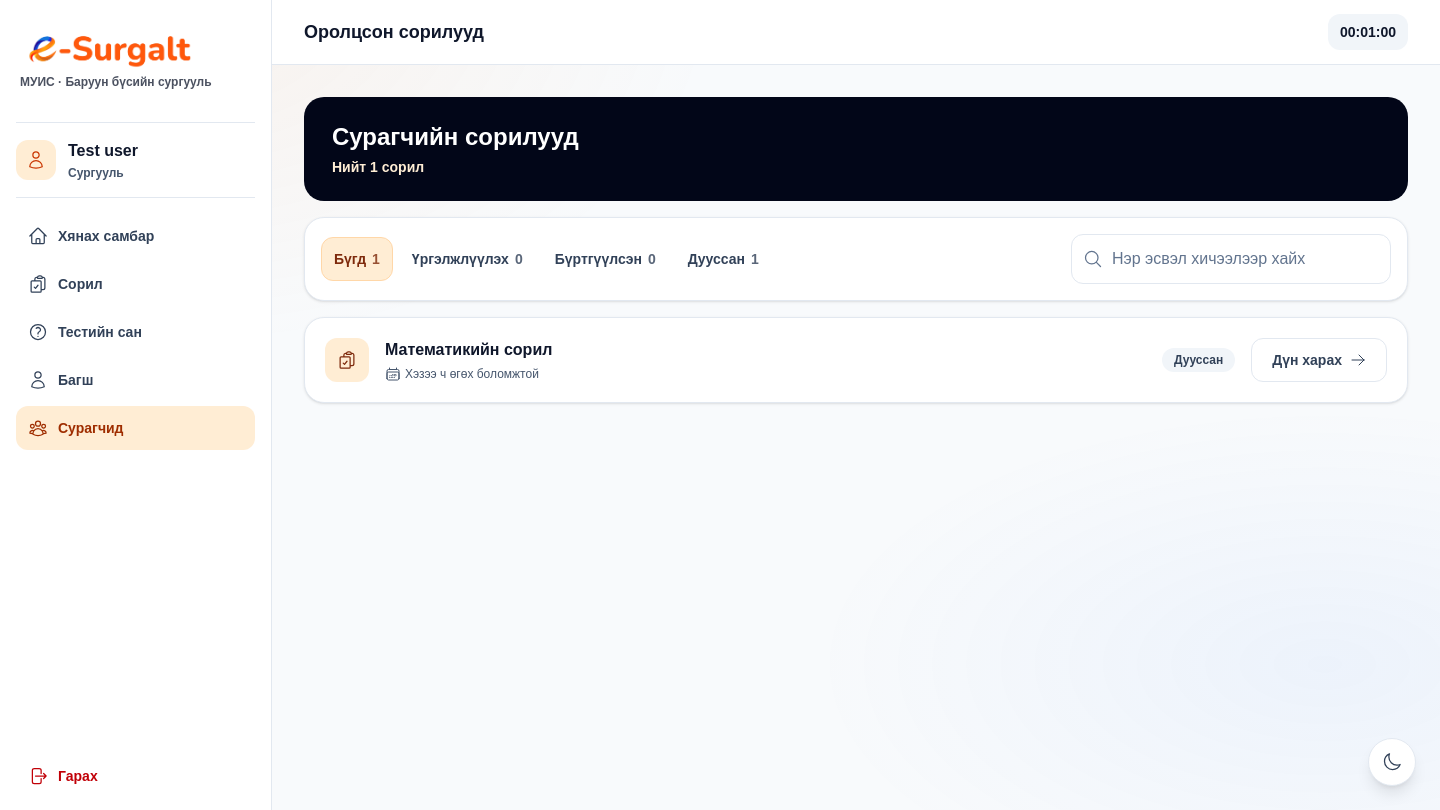
Test: opens a completed exam from the school student list
Click the button with aria-label "Сорилын үр дүн".
click(1319, 360)  # box [1251, 338, 1387, 382]
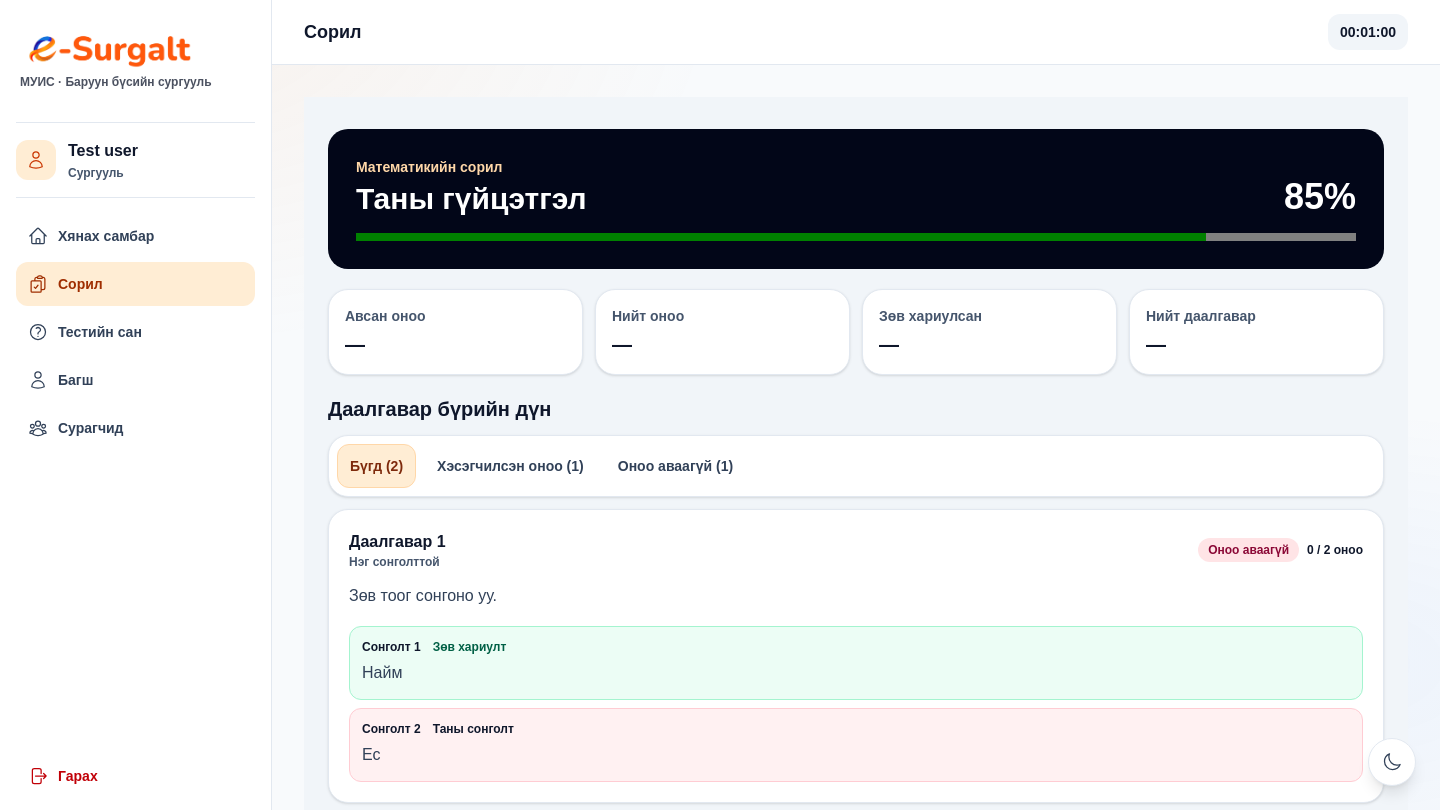
Expected: the heading "Таны гүйцэтгэл" is shown, [356, 181, 587, 217]
Expected: the text "85%" is shown, [1284, 177, 1356, 217]
Expected: the text "Зөв тоог сонгоно уу." is shown, [349, 587, 497, 604]
Click the button "Хэсэгчилсэн оноо (1)".
click(510, 466)  # box [424, 444, 597, 488]
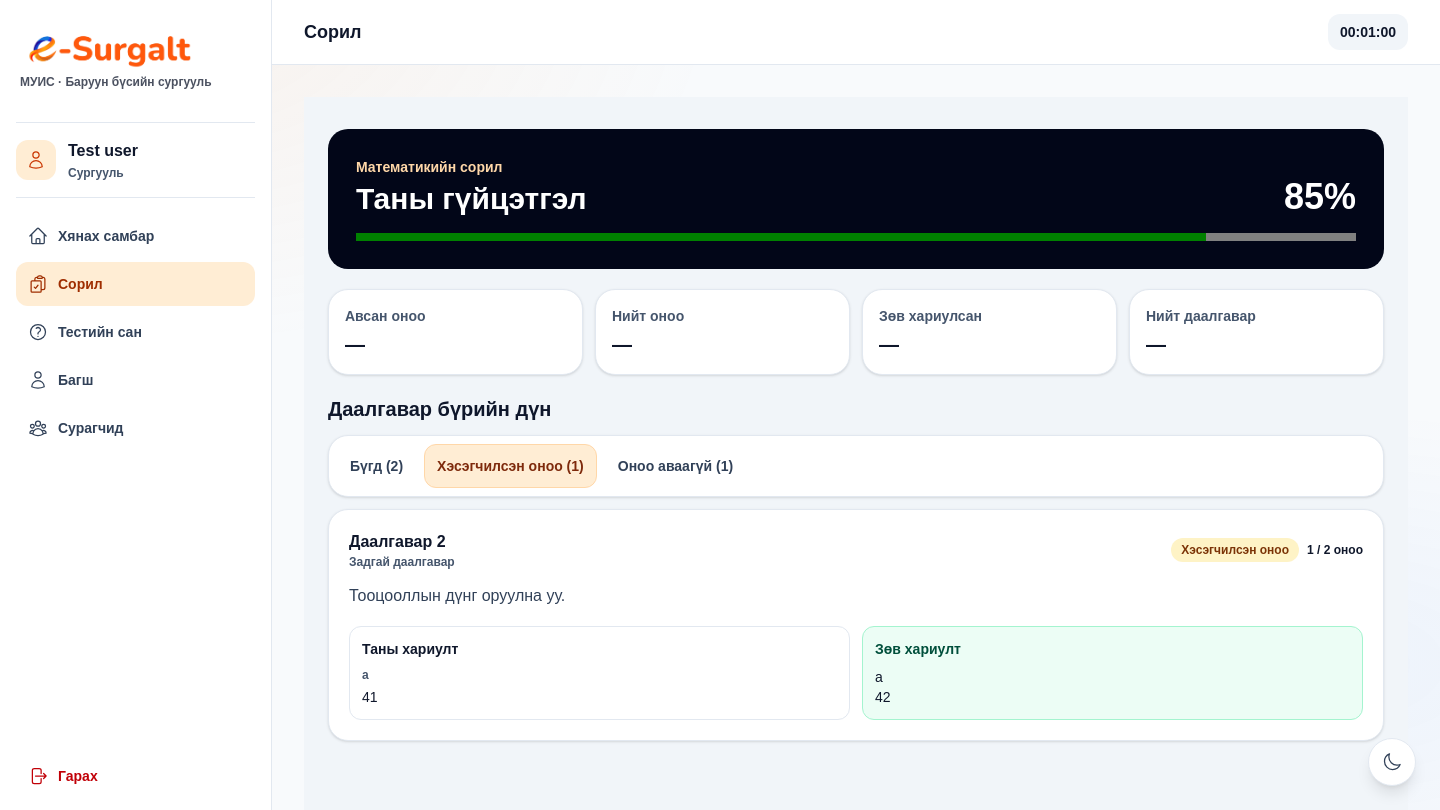
Expected: the heading "Даалгавар 2" is shown, [349, 530, 455, 554]
Expected: the text "Зөв тоог сонгоно уу." is gone
